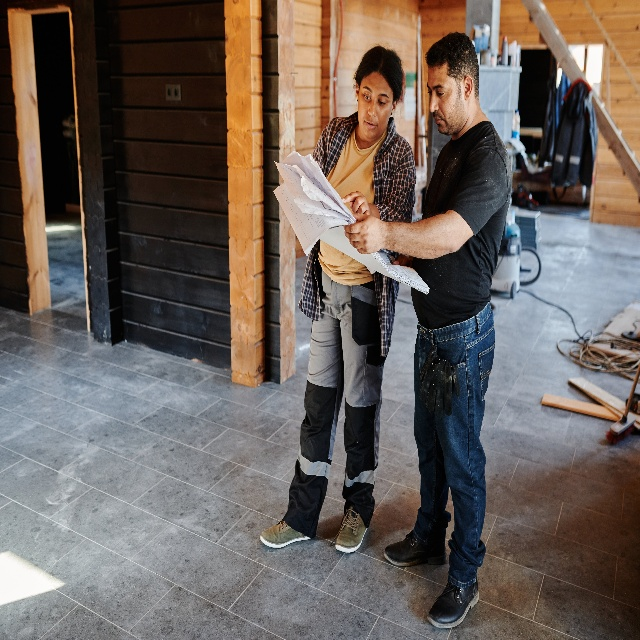Guantes: (419, 355, 460, 419)
Sin_guantes: (343, 212, 384, 254), (341, 191, 371, 215)
